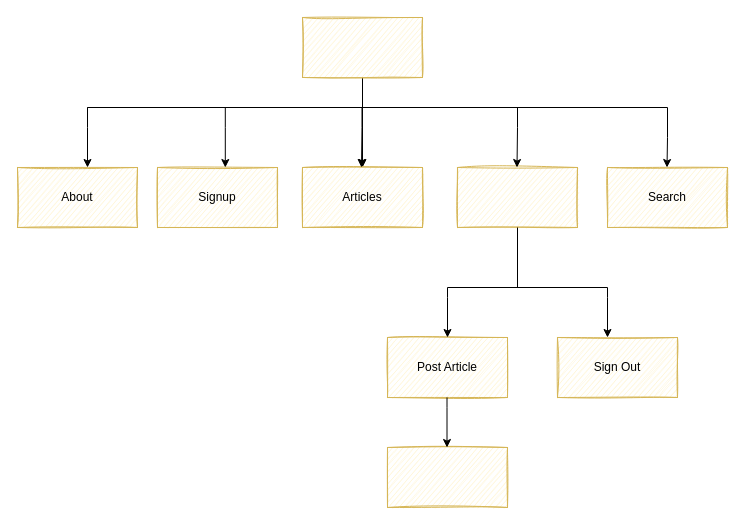
Image size: 745x525. Some labels were removed from this diagram. The shapes that lost their labels are listed below. From the top down, each one's centre as x and y in pixels, then its label:
(362,47): Home
(517,197): Login
(447,477): Edit / Delete Article
